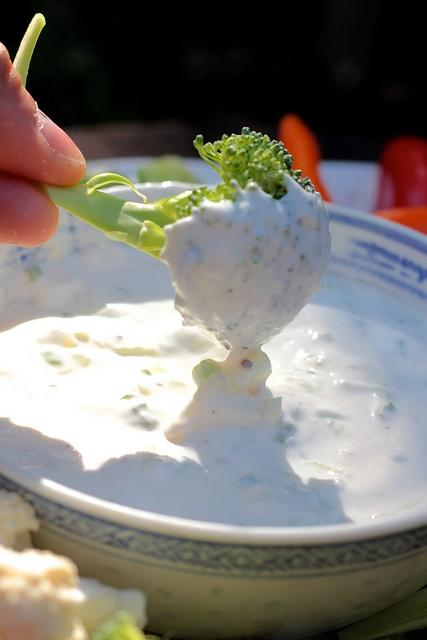broccoli: (12, 13, 332, 352)
carrot: (278, 111, 335, 202), (370, 207, 427, 234)
cauliflower: (0, 544, 89, 640), (80, 578, 150, 640), (0, 488, 41, 550)
